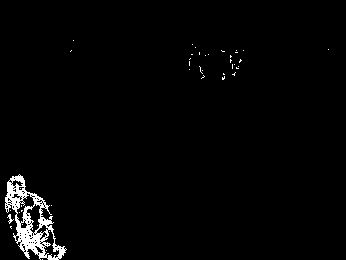person: (5, 175, 65, 259)
